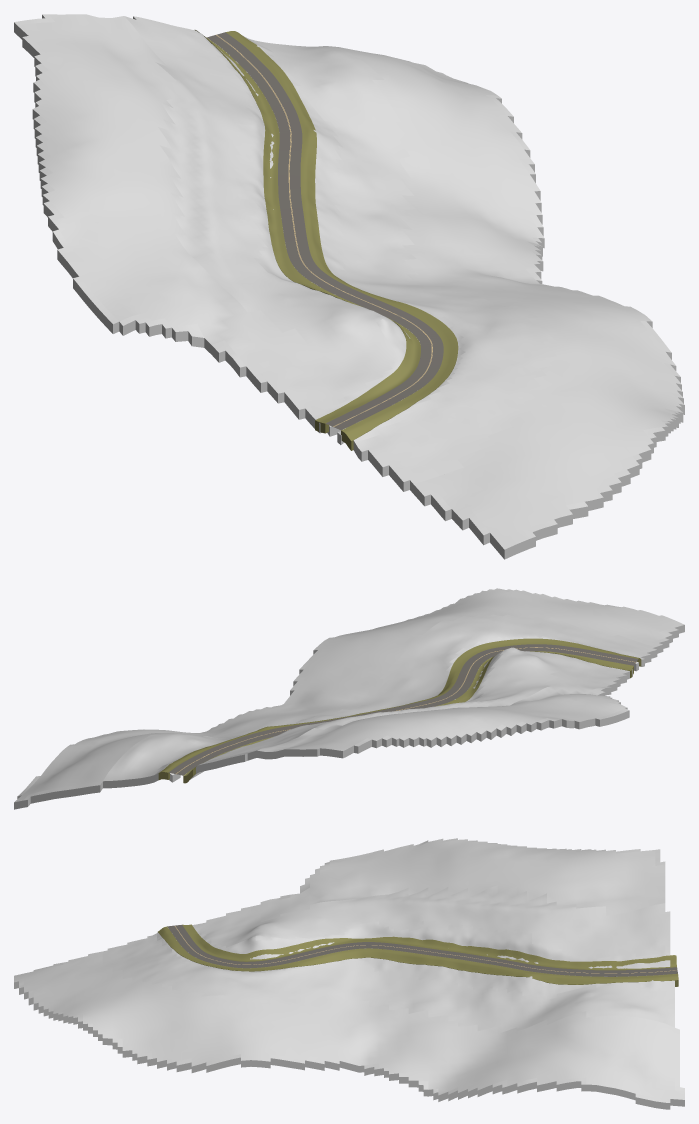
File: conz_195.glb
3 views of the same model, one above another, from view 1: azimuth 30°, elevation 25°; view 2: azimuth 150°, elevation 25°; view 3: azimuth 270°, elevation 25° (orthographic). The views are drawn at different scales.
Parts seen in each view (by area): view 1: terrain195, road195, verge195R, verge195L, paint_yellow195; view 2: terrain195, road195, verge195R, verge195L; view 3: terrain195, verge195R, verge195L, road195, paint_yellow195.
Part boxes in pixels (left/top/right/bottom): terrain195: left=14, top=14, right=684, bottom=559; road195: left=207, top=32, right=443, bottom=430; verge195R: left=226, top=31, right=458, bottom=450; verge195L: left=195, top=30, right=420, bottom=433; paint_yellow195: left=216, top=34, right=432, bottom=426; terrain195: left=14, top=588, right=684, bottom=809; road195: left=169, top=644, right=638, bottom=775; verge195R: left=158, top=638, right=641, bottom=779; verge195L: left=183, top=651, right=633, bottom=783; terrain195: left=14, top=838, right=684, bottom=1109; verge195R: left=157, top=926, right=678, bottom=986; verge195L: left=182, top=924, right=676, bottom=976; road195: left=167, top=925, right=677, bottom=976; paint_yellow195: left=175, top=926, right=677, bottom=973.
Size of the model in its own units: 184 by 59.2 by 272.
